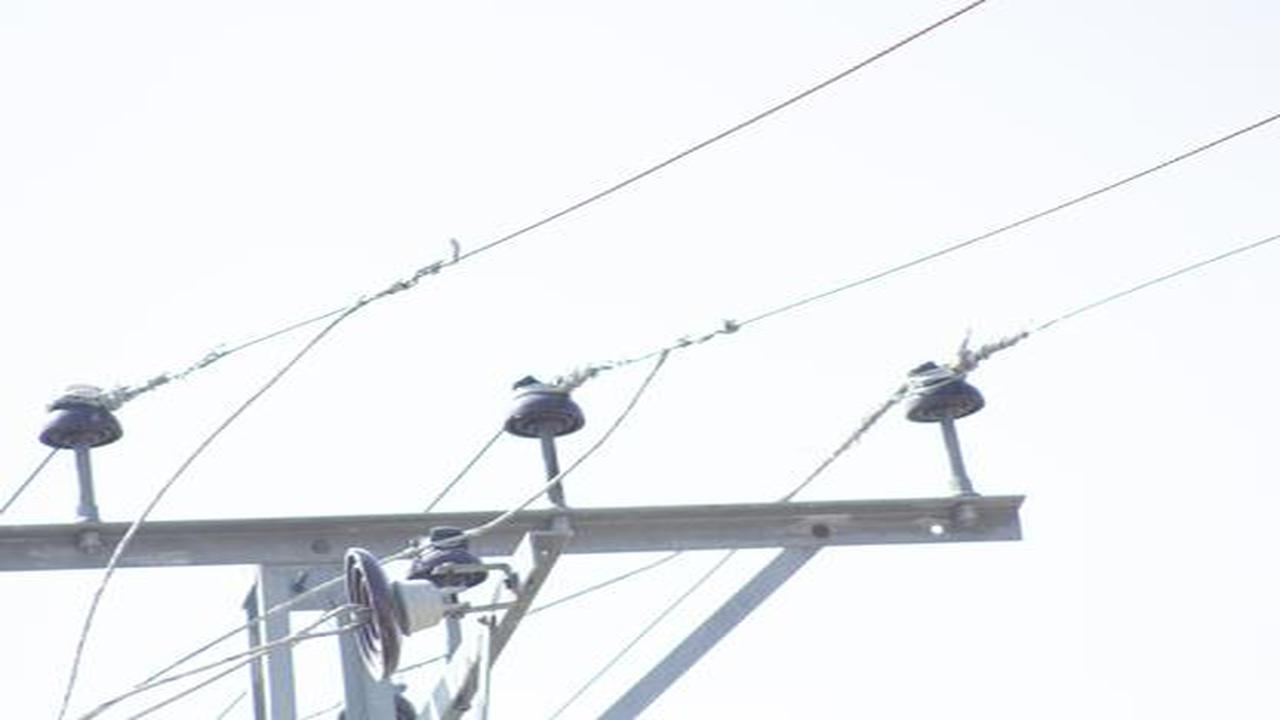insulator_disc: (339, 545, 419, 686)
insulator_pin: (897, 357, 992, 435), (38, 376, 126, 453), (503, 371, 591, 443), (408, 531, 492, 588)
